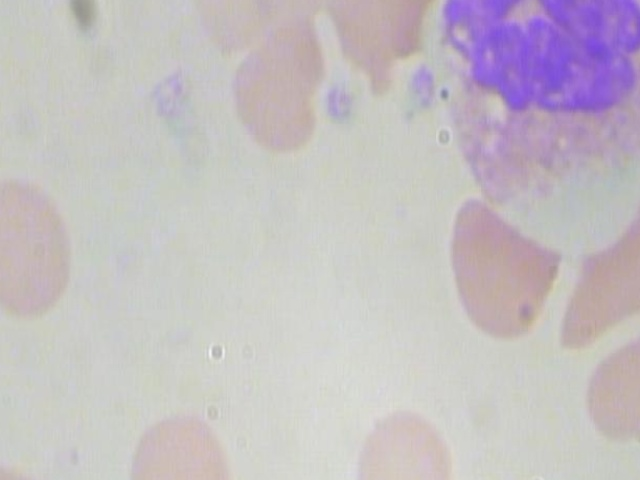Platelets: (400, 59, 437, 115), (323, 82, 357, 130)
RBC: (217, 12, 344, 172), (439, 188, 565, 348), (0, 173, 109, 331), (122, 404, 238, 480), (347, 405, 463, 480)
WBC: (428, 0, 640, 208)
